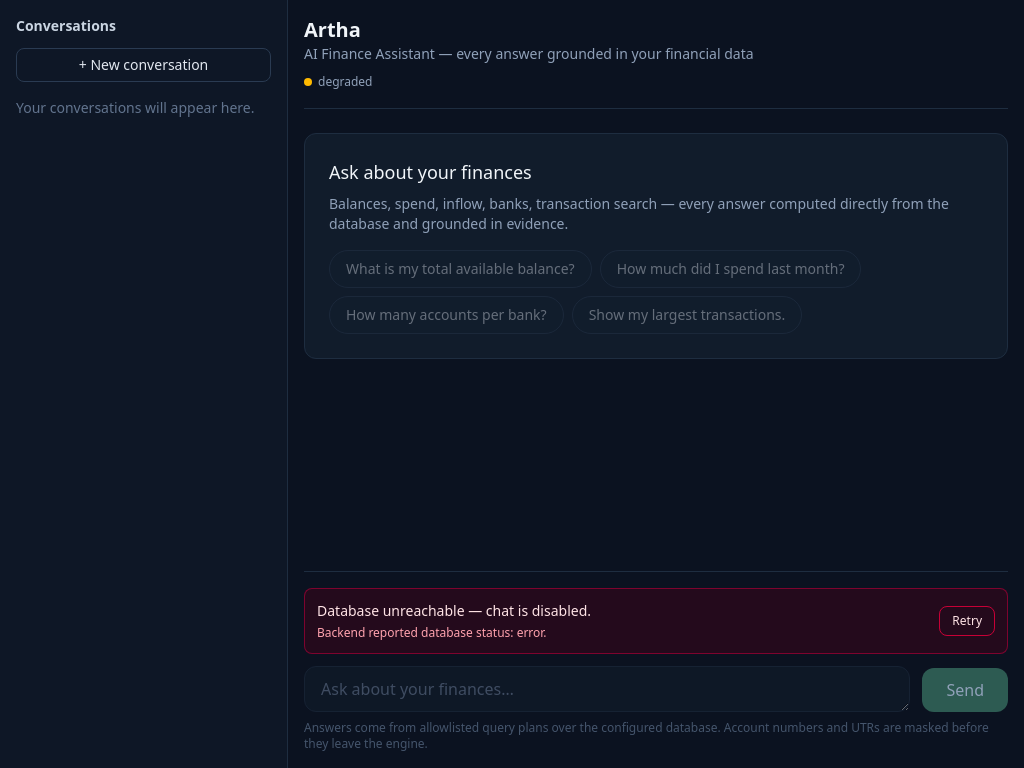
Test: disables chat while degraded and Retry re-enables it
The image size is (1024, 768).
Expected: the message shows "chat is disabled", top-left (317, 601), bottom-right (591, 620)
Expected: the text box named "Ask a question" is disabled, top-left (304, 666), bottom-right (910, 712)
Step 1. Click the button "Retry" → point(967, 621), box top-left (939, 606), bottom-right (995, 636)
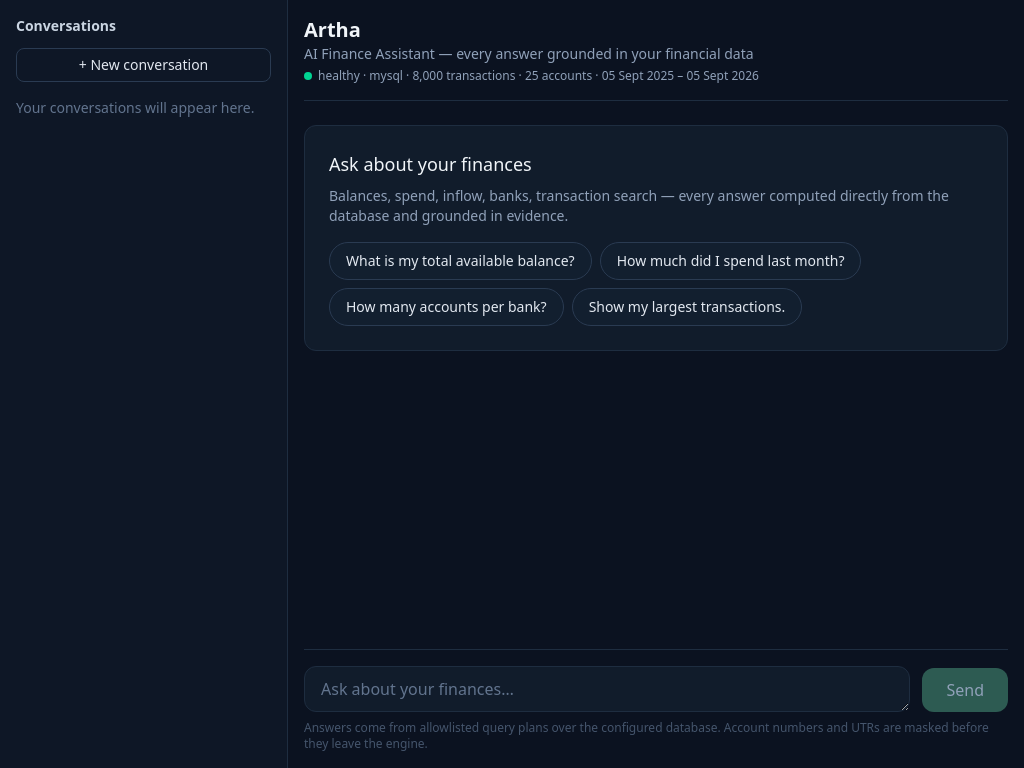
Result: the text "healthy · mysql" is shown at top-left (318, 68), bottom-right (759, 84)
Result: the text box named "Ask a question" is enabled at top-left (304, 666), bottom-right (910, 712)
